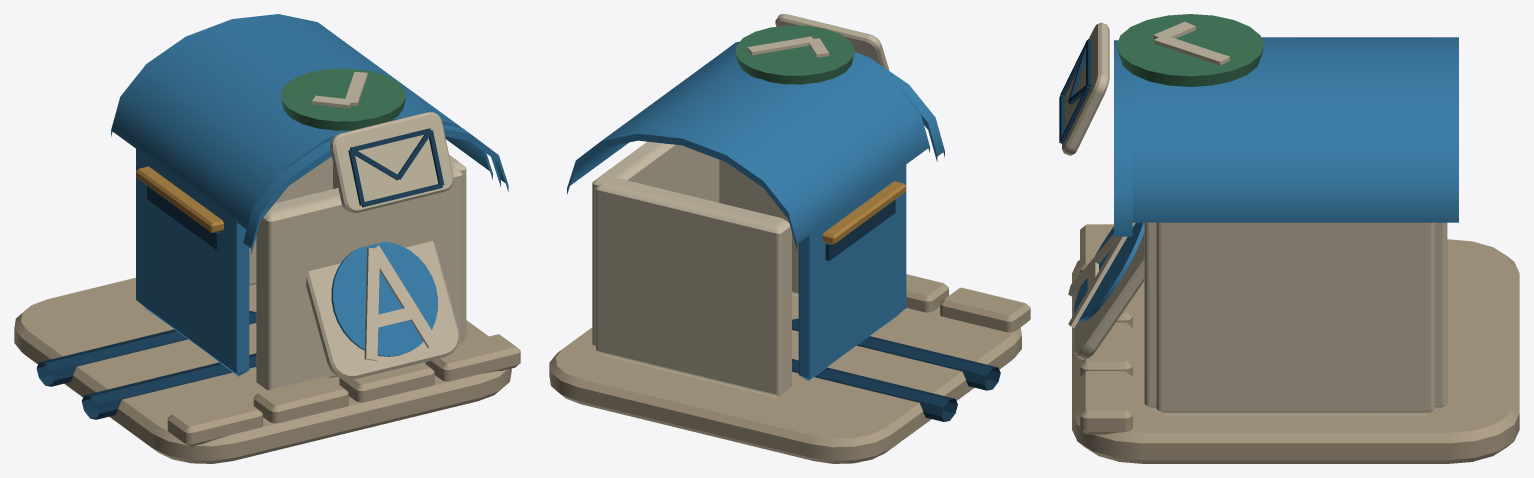
File: boite_a.glb
3 renders of one model, left to right at view 1: azimuth 30°, elevation 25°; view 2: azimuth 150°, elevation 25°; view 3: azimuth 270°, elevation 25°, orthographic. The views are drawn at different scales.
Parts seen in each view (by area): view 1: Batch_Limestone, Batch_EnamelA2, Batch_Porcelain2, Batch_EnamelA, Batch_AddressA, Batch_PorcelainSign, Batch_Success, Batch_PaintedMetal2, Batch_SignalInk, _MeshInstance3D_158, Batch_BrassDetail, Batch_PaintedMetal (+1 smaller); view 2: Batch_Porcelain2, Batch_Limestone, Batch_EnamelA2, Batch_EnamelA, Batch_Success, Batch_PaintedMetal2, Batch_BrassDetail, Batch_PaintedMetal, Batch_Porcelain; view 3: Batch_Porcelain2, Batch_EnamelA2, Batch_Limestone, Batch_Success, Batch_PorcelainSign, Batch_AddressA, Batch_SignalInk, _MeshInstance3D_158, Batch_Porcelain.
Boxes of the visible parts, x1,y1,x2,y2 form: Batch_Limestone: [14, 277, 520, 463]; Batch_EnamelA2: [111, 14, 508, 254]; Batch_Porcelain2: [249, 112, 466, 390]; Batch_EnamelA: [136, 149, 249, 376]; Batch_AddressA: [331, 242, 437, 356]; Batch_PorcelainSign: [306, 241, 459, 379]; Batch_Success: [280, 68, 405, 130]; Batch_PaintedMetal2: [36, 311, 256, 419]; Batch_SignalInk: [364, 245, 438, 360]; _MeshInstance3D_158: [348, 128, 444, 207]; Batch_BrassDetail: [136, 166, 223, 233]; Batch_PaintedMetal: [147, 185, 220, 250]; Batch_Porcelain2: [592, 14, 889, 397]; Batch_Limestone: [549, 274, 1030, 463]; Batch_EnamelA2: [567, 41, 944, 250]; Batch_EnamelA: [798, 164, 906, 380]; Batch_Success: [735, 25, 854, 84]; Batch_PaintedMetal2: [792, 318, 1000, 421]; Batch_BrassDetail: [822, 181, 906, 244]; Batch_PaintedMetal: [825, 200, 895, 261]; Batch_Porcelain: [747, 36, 829, 57]; Batch_Porcelain2: [1062, 22, 1447, 415]; Batch_EnamelA2: [1114, 37, 1458, 236]; Batch_Limestone: [1072, 224, 1519, 463]; Batch_Success: [1117, 14, 1263, 86]; Batch_PorcelainSign: [1074, 233, 1144, 359]; Batch_AddressA: [1074, 222, 1144, 321]; Batch_SignalInk: [1068, 222, 1135, 327]; _MeshInstance3D_158: [1059, 39, 1091, 143]; Batch_Porcelain: [1153, 21, 1229, 65].
Size of the model in its own units: 0.95 by 0.726 by 0.8741.
